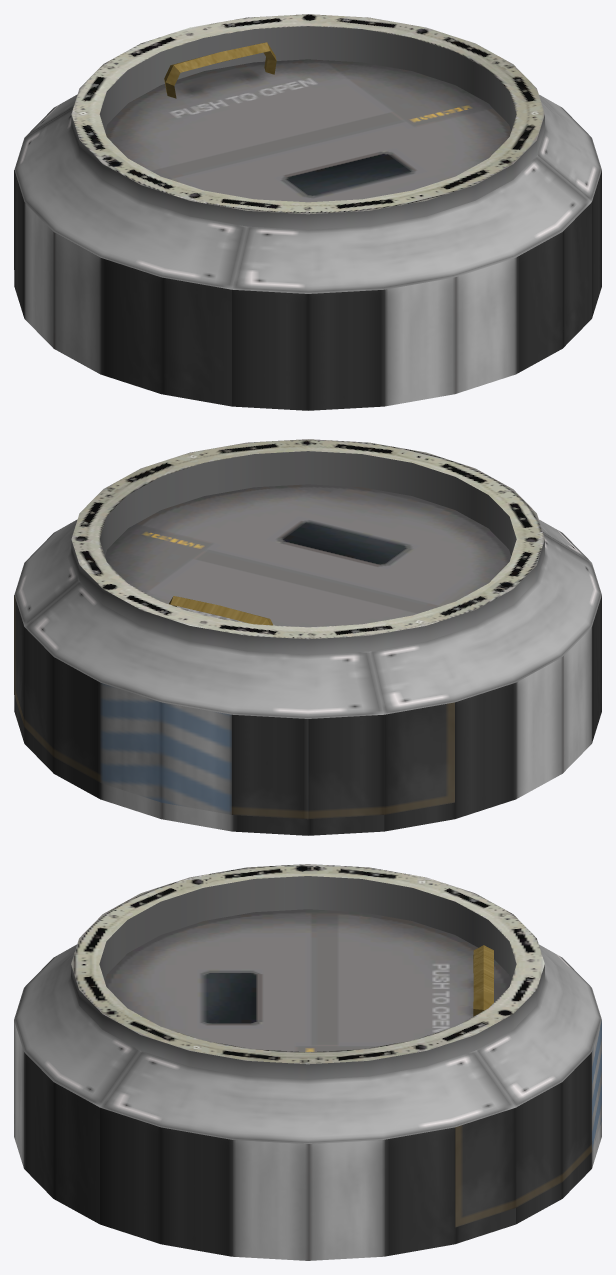
Rendered from Mk1DockingPort.FBX.
3 views of the same model, one above another, from view 1: azimuth 30°, elevation 25°; view 2: azimuth 150°, elevation 25°; view 3: azimuth 270°, elevation 25° (orthographic).
Parts seen in each view (by area): view 1: MainBody, Side, HatchHandle; view 2: MainBody, cap, Side, HatchHandle; view 3: MainBody, Side, cap, HatchHandle.
Part boxes in pixels (left/top/right/bottom): MainBody: left=14, top=14, right=601, bottom=293; Side: left=14, top=170, right=601, bottom=410; HatchHandle: left=164, top=42, right=276, bottom=98; MainBody: left=14, top=439, right=601, bottom=718; cap: left=14, top=595, right=454, bottom=819; Side: left=14, top=595, right=601, bottom=835; HatchHandle: left=169, top=596, right=272, bottom=625; MainBody: left=14, top=864, right=601, bottom=1143; Side: left=14, top=1020, right=601, bottom=1260; cap: left=455, top=1020, right=601, bottom=1227; HatchHandle: left=473, top=945, right=493, bottom=1016.
Size of what is drawn, in the model's own units: 0.625 by 0.2024 by 0.625.
